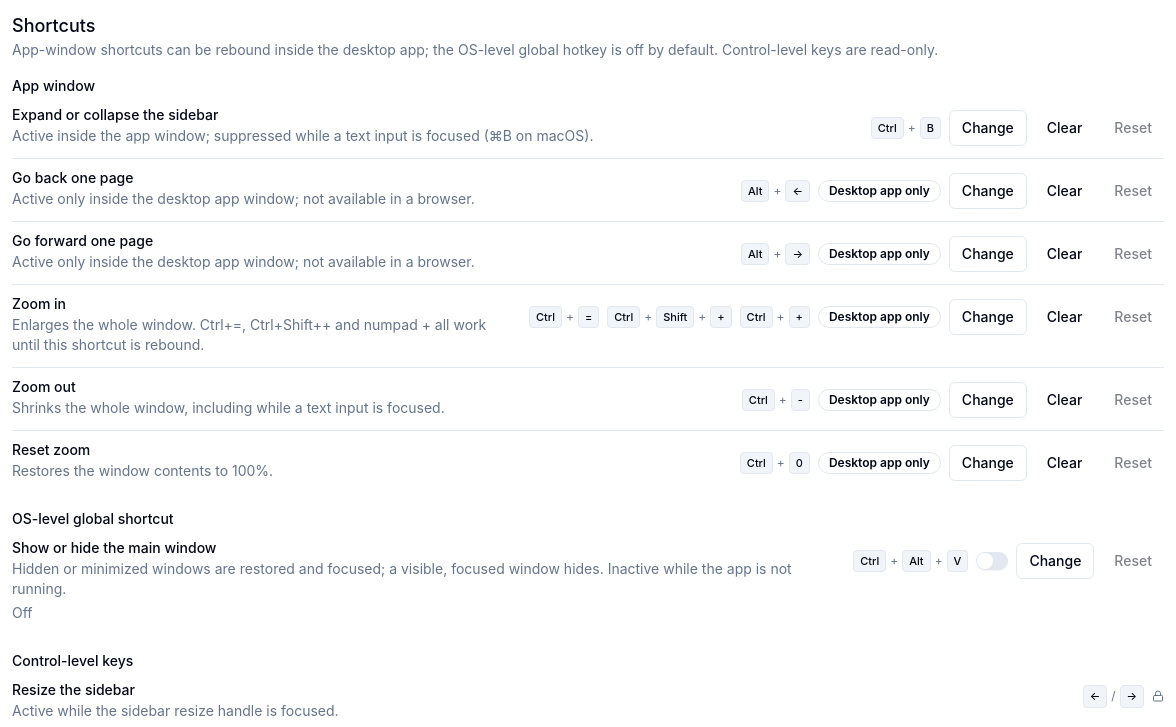
ShortcutsSettings — desktop bridge surface › blocks a combo already held by another action before any write
This screenshot has width=1176, height=727.
Click the button with test id "shortcut-rebind-historyBack". click: (988,191)
box: [949, 173, 1027, 209]
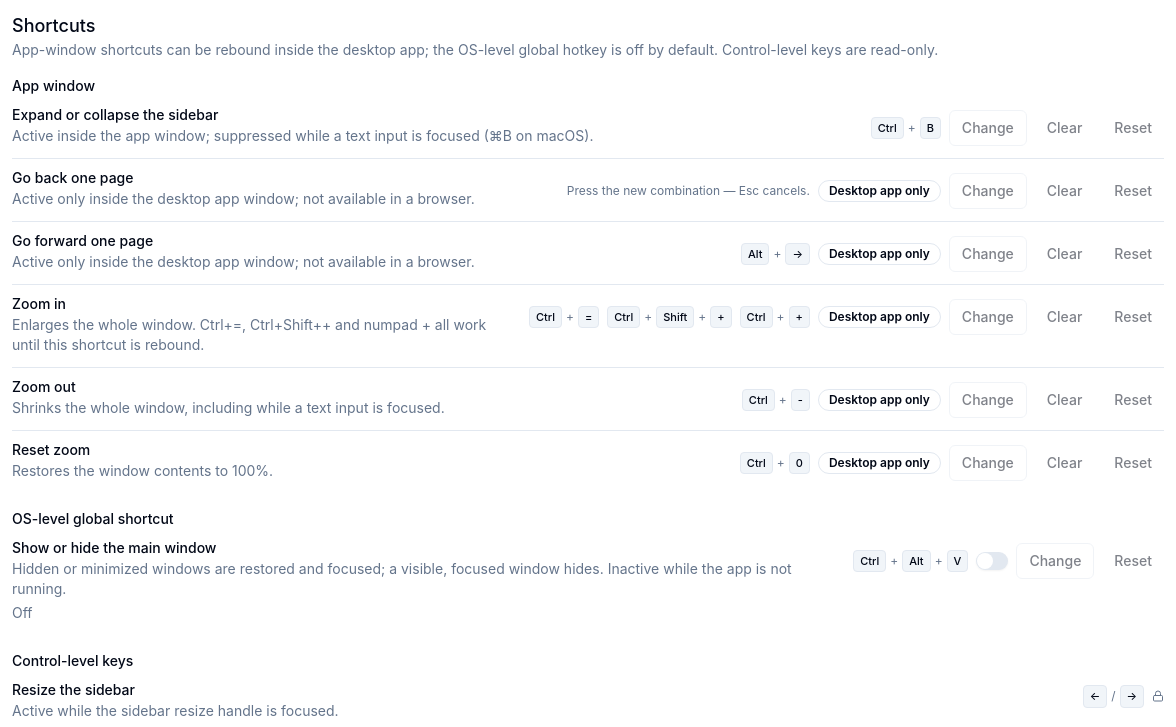
Press b
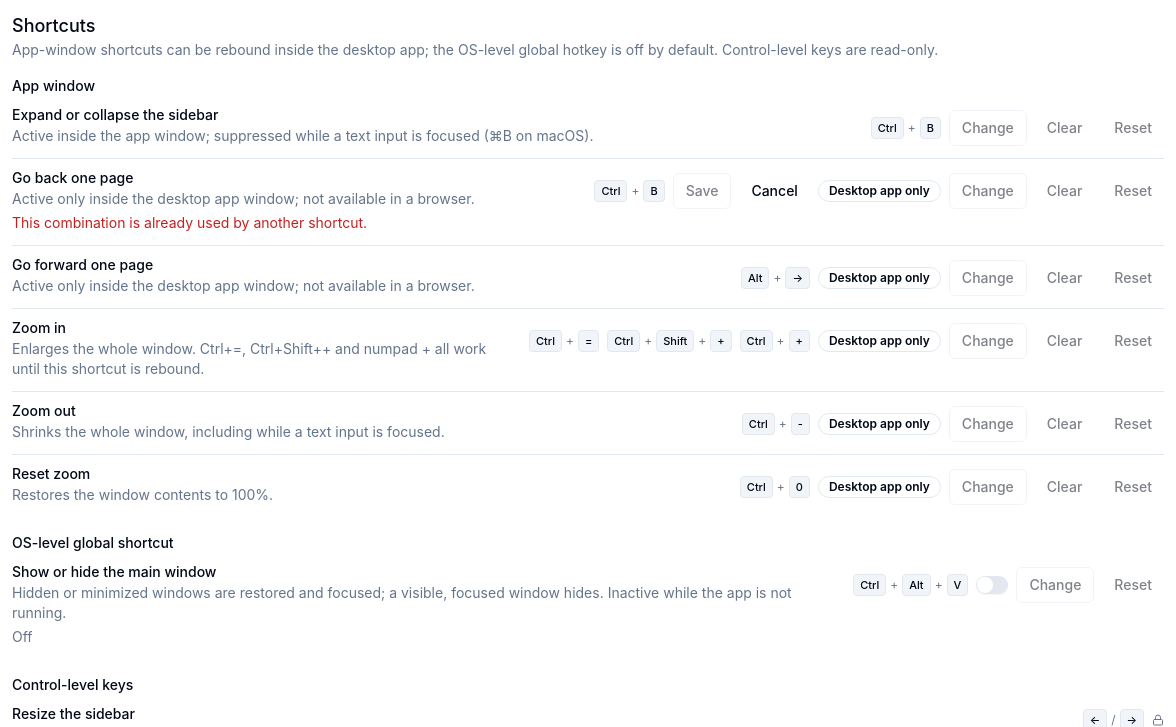
Now the text with test id "shortcut-error-historyBack" shows "already used", box [12, 214, 367, 231]
